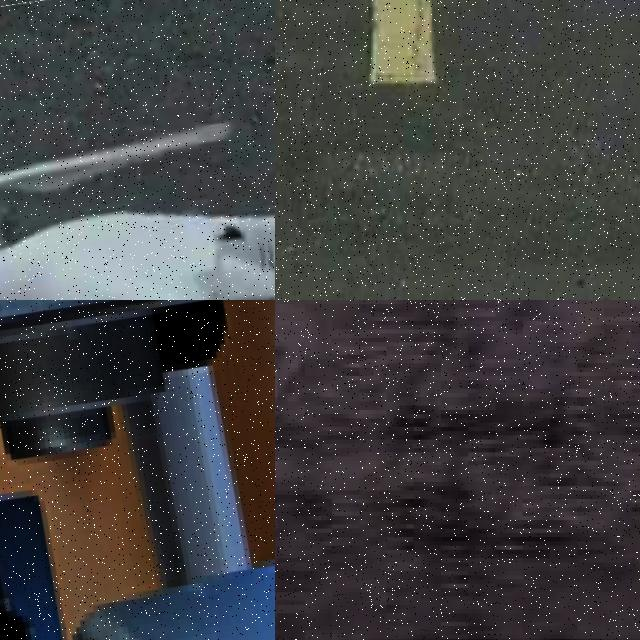0: (0, 300, 275, 640)
drone: (0, 0, 275, 300)
